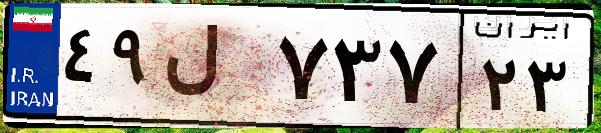2: (475, 38, 525, 113)
3: (330, 28, 385, 110), (525, 38, 570, 115)
4: (57, 26, 110, 100)
7: (270, 28, 330, 110), (385, 28, 445, 110)
9: (110, 28, 158, 98)
ل: (158, 20, 270, 120)
